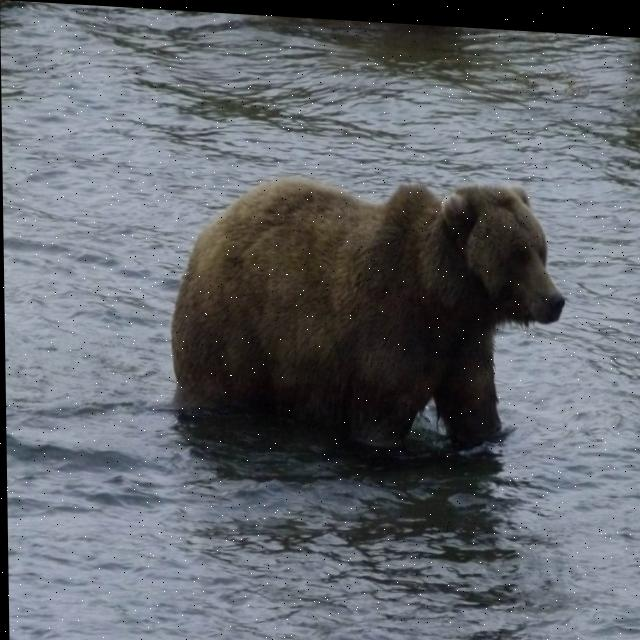bear face: (168, 162, 567, 430)
